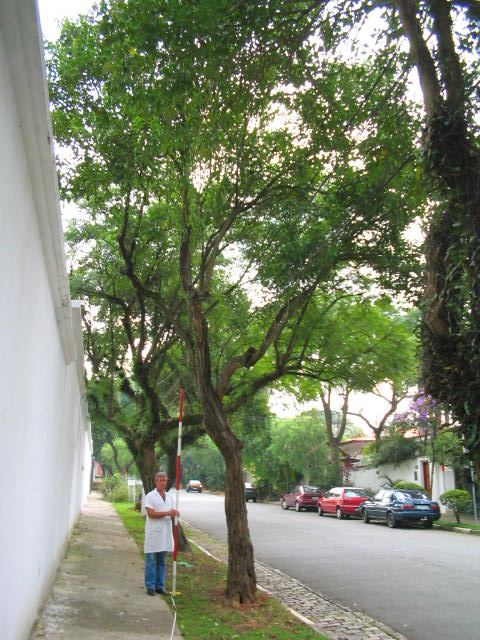crown: (46, 3, 426, 277)
stem: (193, 400, 280, 605)
stick: (166, 391, 187, 593)
tree: (44, 2, 426, 606)
